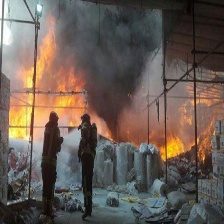fire: (5, 26, 57, 135), (54, 72, 88, 116), (196, 114, 220, 163), (153, 136, 187, 158)
smoke: (58, 2, 164, 130)
